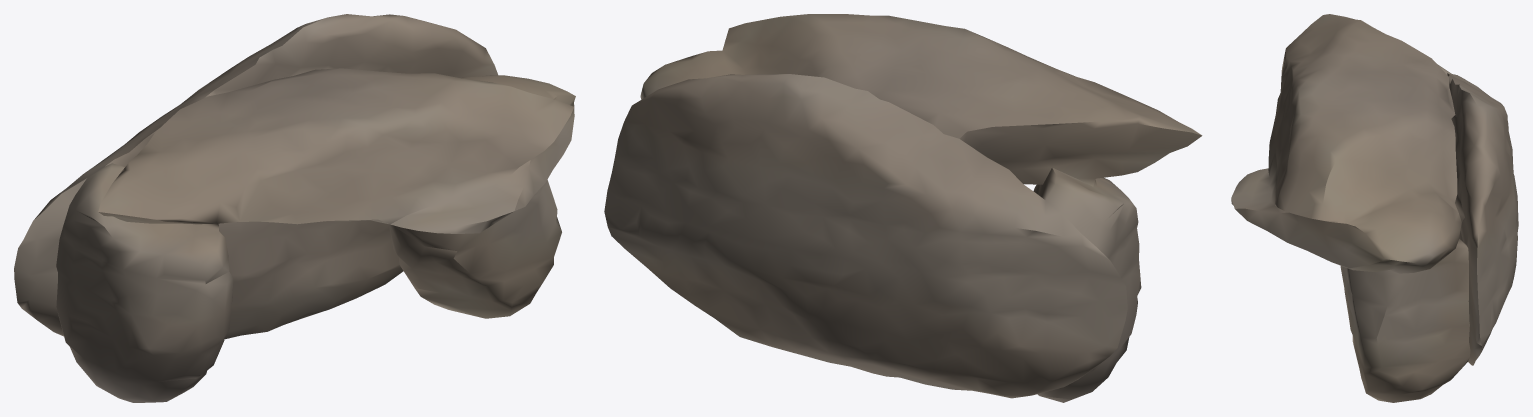
The model's file is cave_ledge.glb.
The picture shows the model from 3 angles, left to right: view 1: azimuth 30°, elevation 25°; view 2: azimuth 150°, elevation 25°; view 3: azimuth 270°, elevation 25°; orthographic projection. The views are drawn at different scales.
Visible parts, largest first — view 1: cave_ledge; view 2: cave_ledge; view 3: cave_ledge.
Part boxes in pixels (box(x1,y1,x2,y2)): cave_ledge: box(14, 14, 575, 402); cave_ledge: box(604, 14, 1202, 402); cave_ledge: box(1231, 14, 1518, 402).
Size of the model in its own units: 2.42 by 1.32 by 1.37.
